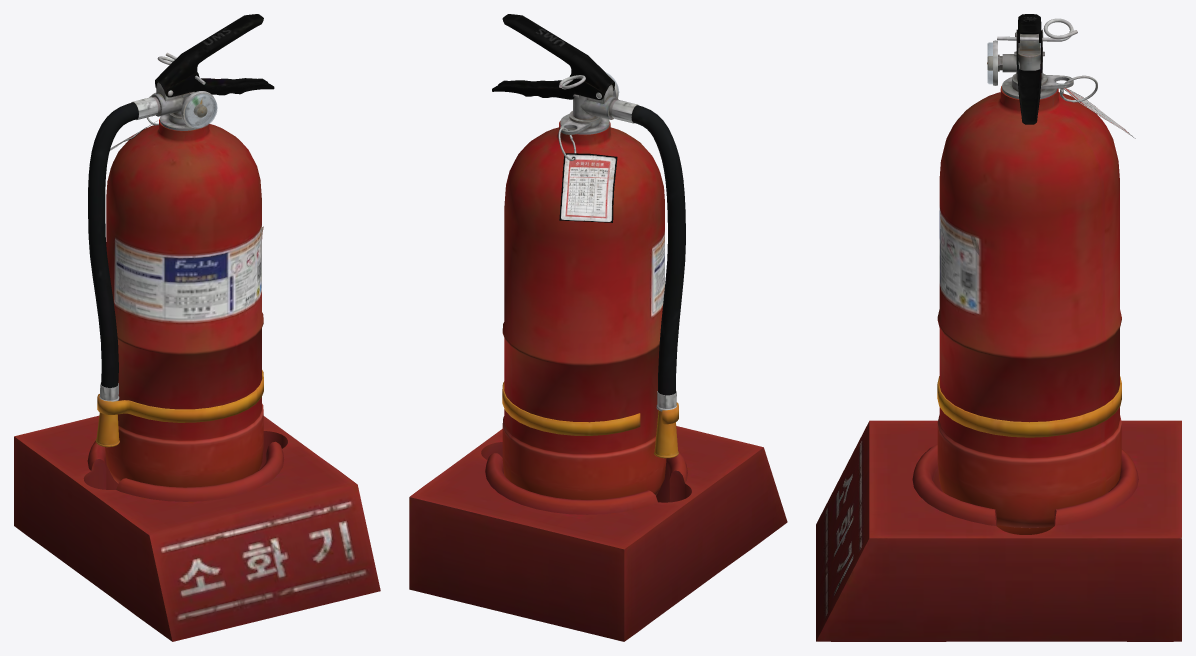
Rendered from korean_fire_extinguisher_01.glb.
3 renders of one model, left to right at view 1: azimuth 30°, elevation 25°; view 2: azimuth 150°, elevation 25°; view 3: azimuth 270°, elevation 25°, orthographic. The views are drawn at different scales.
Parts seen in each view (by area): view 1: korean_fire_extinguisher_01; view 2: korean_fire_extinguisher_01; view 3: korean_fire_extinguisher_01.
Boxes of the visible parts, bbox=[...] form: korean_fire_extinguisher_01: bbox=[14, 14, 380, 641]; korean_fire_extinguisher_01: bbox=[409, 14, 787, 641]; korean_fire_extinguisher_01: bbox=[816, 14, 1181, 641].
Size of the model in its own units: 0.2799 by 0.6593 by 0.3674.
Materials: 3 (3 with a texture image).
